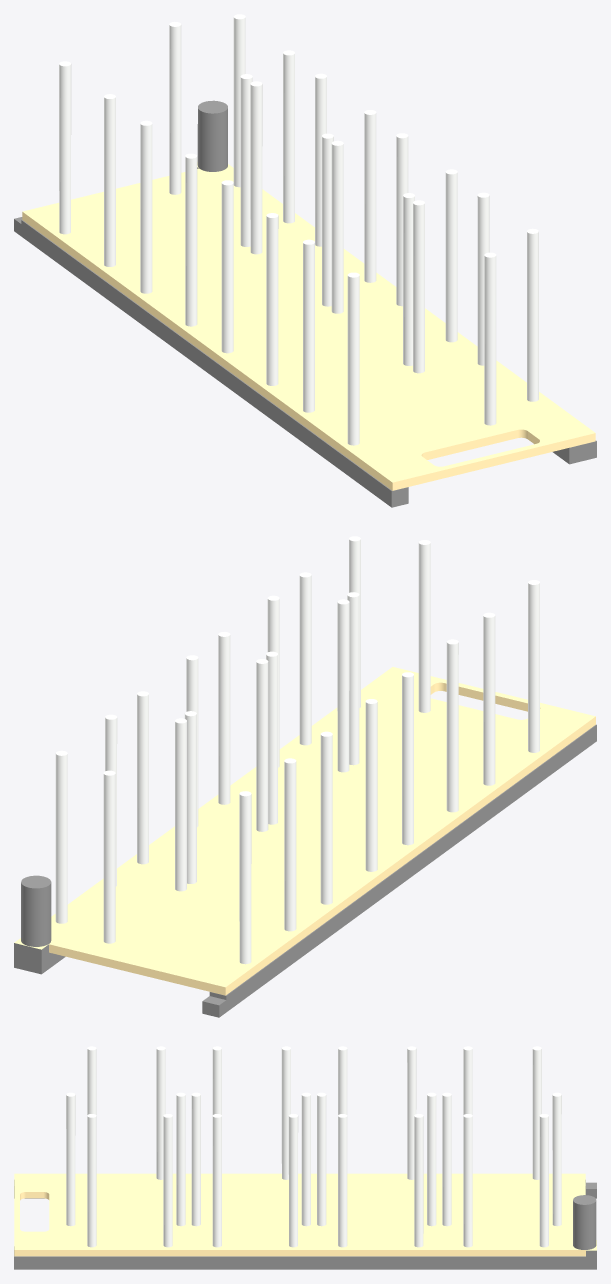
File: PLT_CAR_L4ST_LOW.gltf
3 views of the same model, one above another, from view 1: azimuth 30°, elevation 25°; view 2: azimuth 150°, elevation 25°; view 3: azimuth 270°, elevation 25° (orthographic). The views are drawn at different scales.
Visible parts, largest first — view 1: Poly_Geom_Data, Frm149, Frm155; view 2: Poly_Geom_Data, Frm149, Frm155; view 3: Poly_Geom_Data, Frm149, Frm155.
Part boxes in pixels (box(x1,y1,x2,y2)): Poly_Geom_Data: box(22, 162, 595, 490); Frm149: box(59, 14, 538, 445); Frm155: box(14, 100, 596, 507); Poly_Geom_Data: box(14, 667, 595, 995); Frm149: box(55, 536, 539, 964); Frm155: box(14, 724, 596, 1017); Poly_Geom_Data: box(14, 1173, 596, 1256); Frm149: box(66, 1046, 561, 1247); Frm155: box(14, 1180, 596, 1269).
Size of the model in its own units: 156 by 140 by 497.
